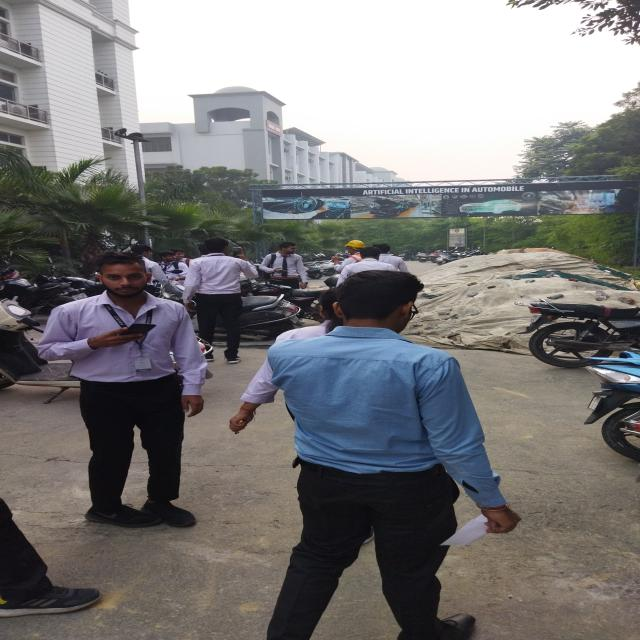safe: (331, 238, 364, 266)
unsafe: (269, 265, 510, 640), (38, 251, 201, 533), (190, 239, 244, 366), (260, 241, 308, 287), (364, 242, 409, 272), (156, 251, 187, 282)
